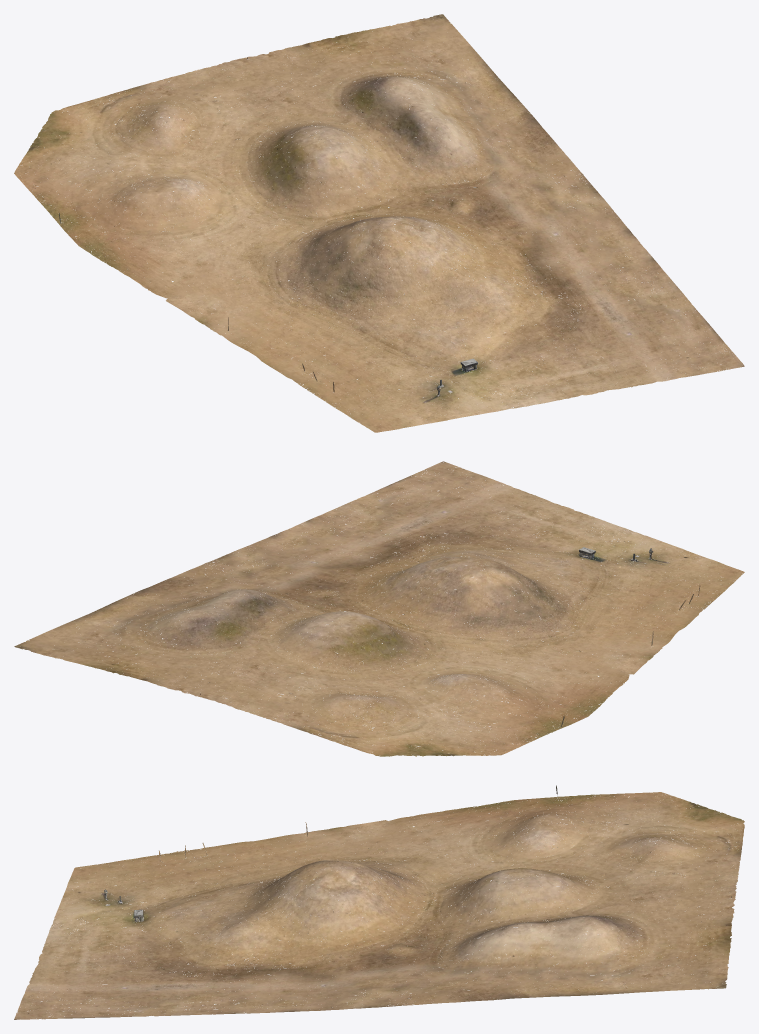
Rendered from oreung.glb.
3 views of the same model, one above another, from view 1: azimuth 30°, elevation 25°; view 2: azimuth 150°, elevation 25°; view 3: azimuth 270°, elevation 25° (orthographic). The views are drawn at different scales.
Parts seen in each view (by area): view 1: Object_2, Object_3, Object_4; view 2: Object_2, Object_3, Object_4; view 3: Object_2, Object_3, Object_4.
Part boxes in pixels (box(x1,y1,x2,y2)): Object_2: box(14, 14, 669, 421); Object_3: box(17, 31, 744, 432); Object_4: box(15, 17, 743, 430); Object_2: box(14, 505, 734, 756); Object_3: box(53, 461, 744, 753); Object_4: box(18, 461, 739, 755); Object_2: box(53, 792, 744, 1014); Object_3: box(14, 785, 737, 1019); Object_4: box(14, 786, 742, 1019).
Size of the model in its own units: 90.64 by 15.31 by 126.
1 material, 1 textured.
